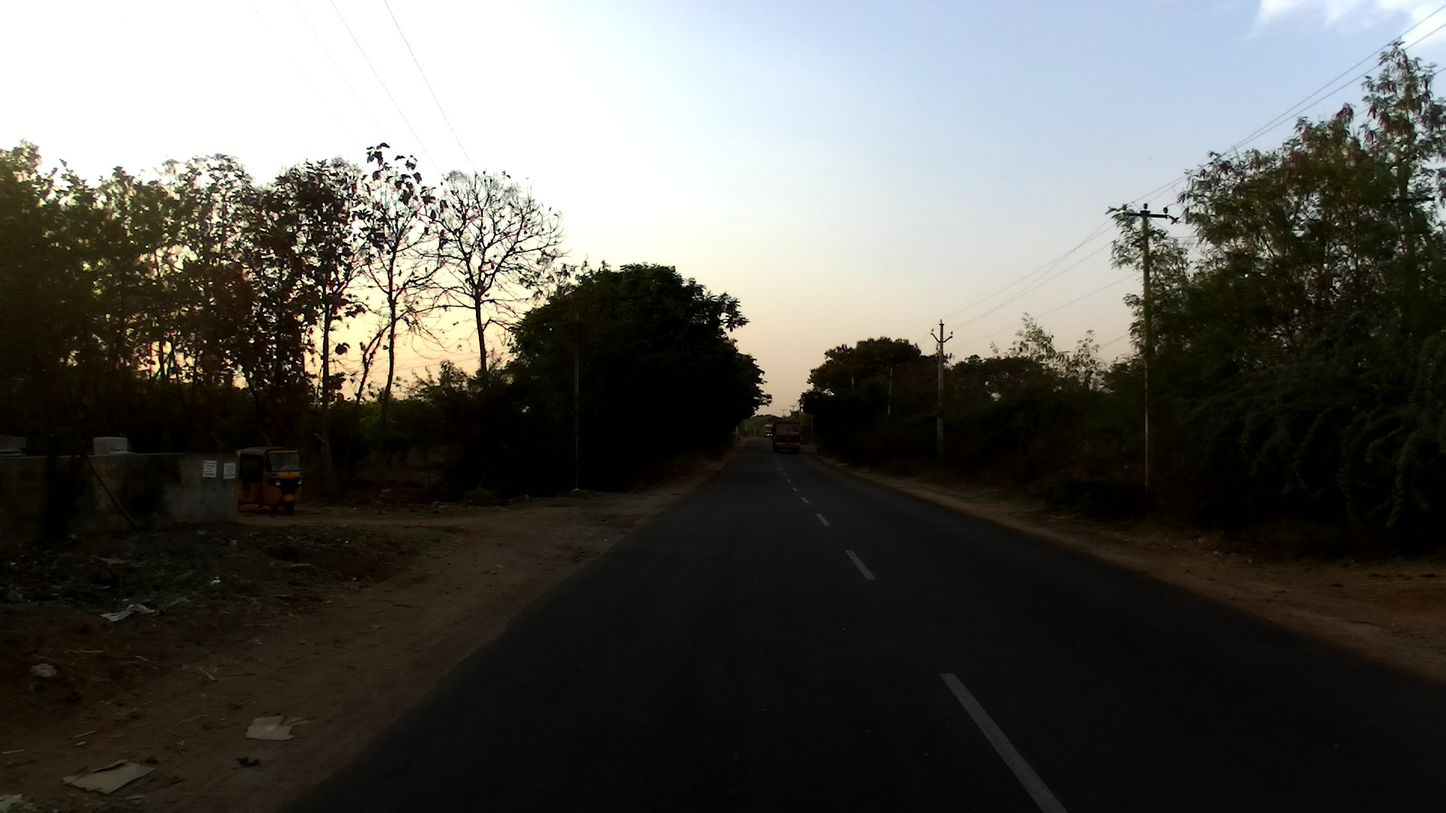autorickshaw: (236, 443, 306, 517)
truck: (770, 418, 807, 455), (761, 419, 775, 442)
